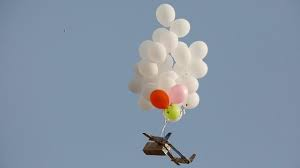Balloon: (148, 88, 170, 110), (155, 3, 175, 27), (172, 40, 191, 64), (138, 58, 157, 80), (177, 75, 199, 93), (171, 18, 190, 37), (148, 42, 166, 62), (169, 85, 186, 105), (161, 32, 178, 51), (163, 103, 180, 121)
